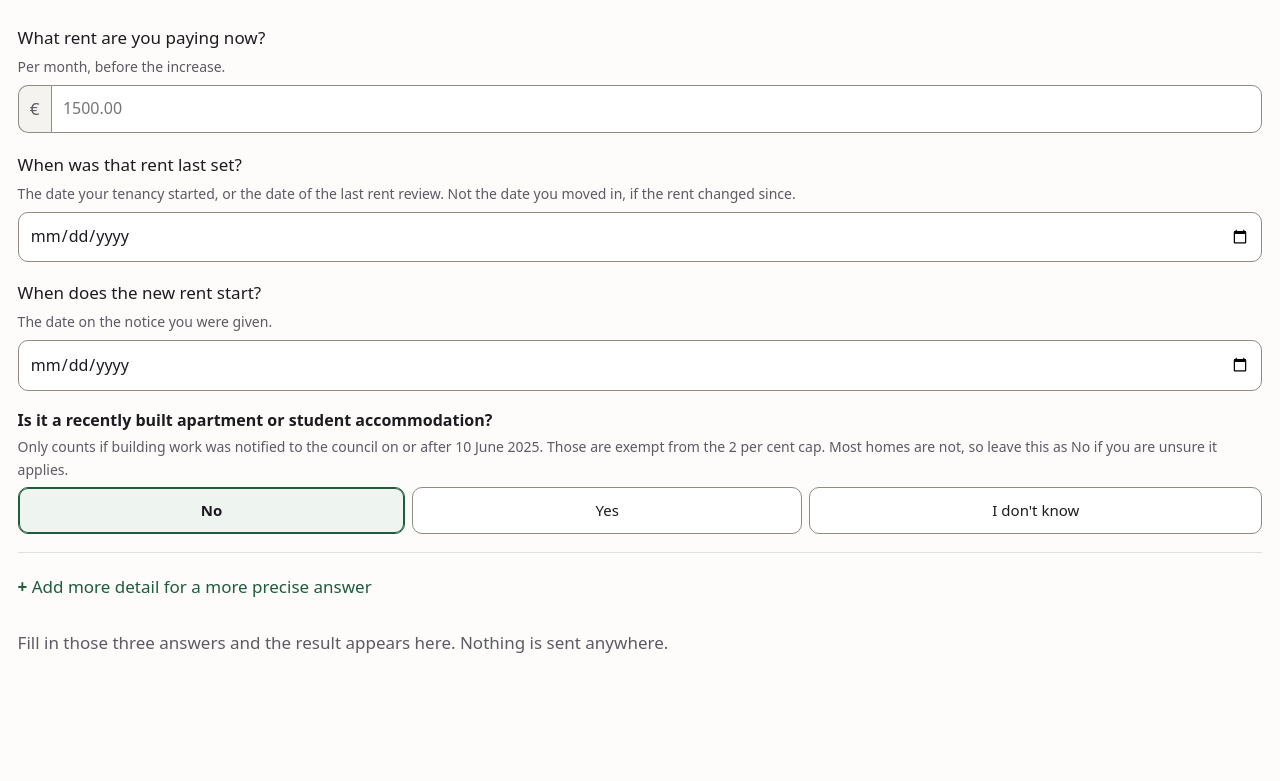
it: when the answer honestly depends on something the tenant cannot check › offers both figures rather than guessing
Type "2000" into the field labelled "What rent are you paying now?" at (657, 109), box [51,85,1262,133]
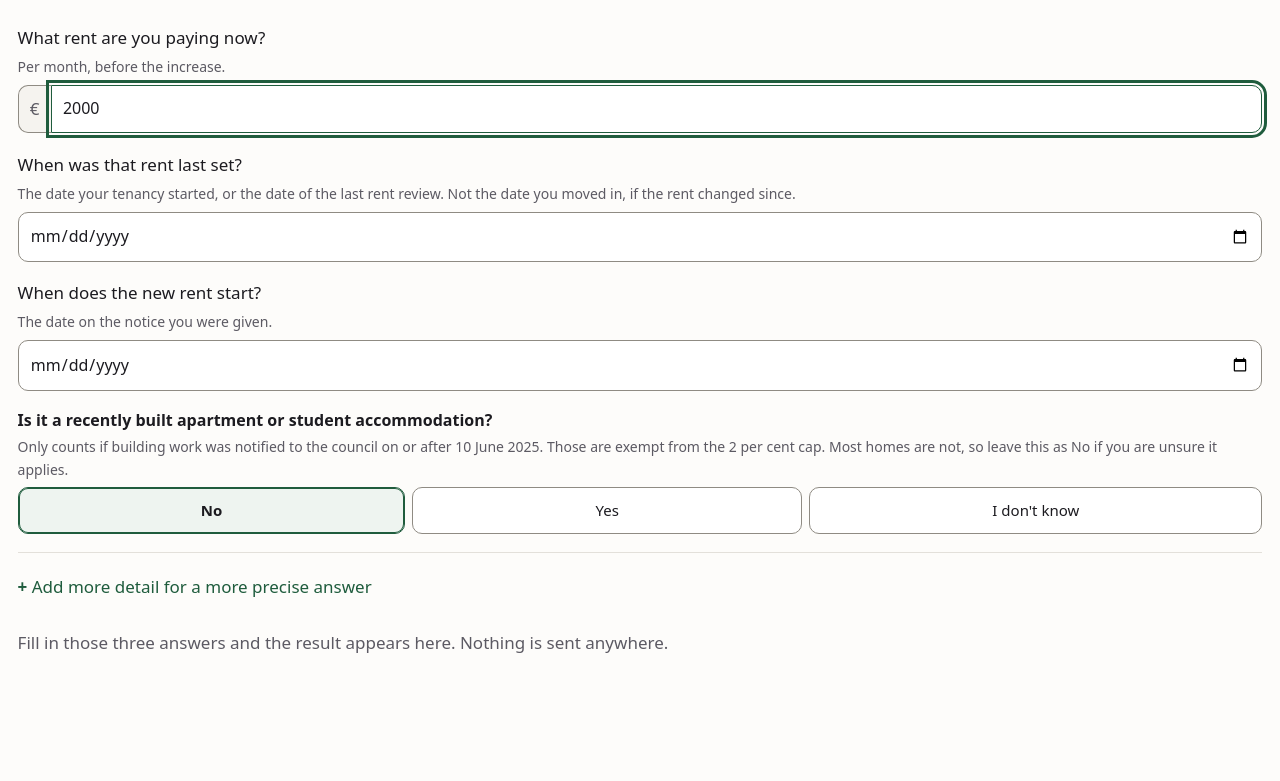
Type "2025-06-01" into the date field labelled "When was that rent last set?" at (640, 237), box [18,212,1262,262]
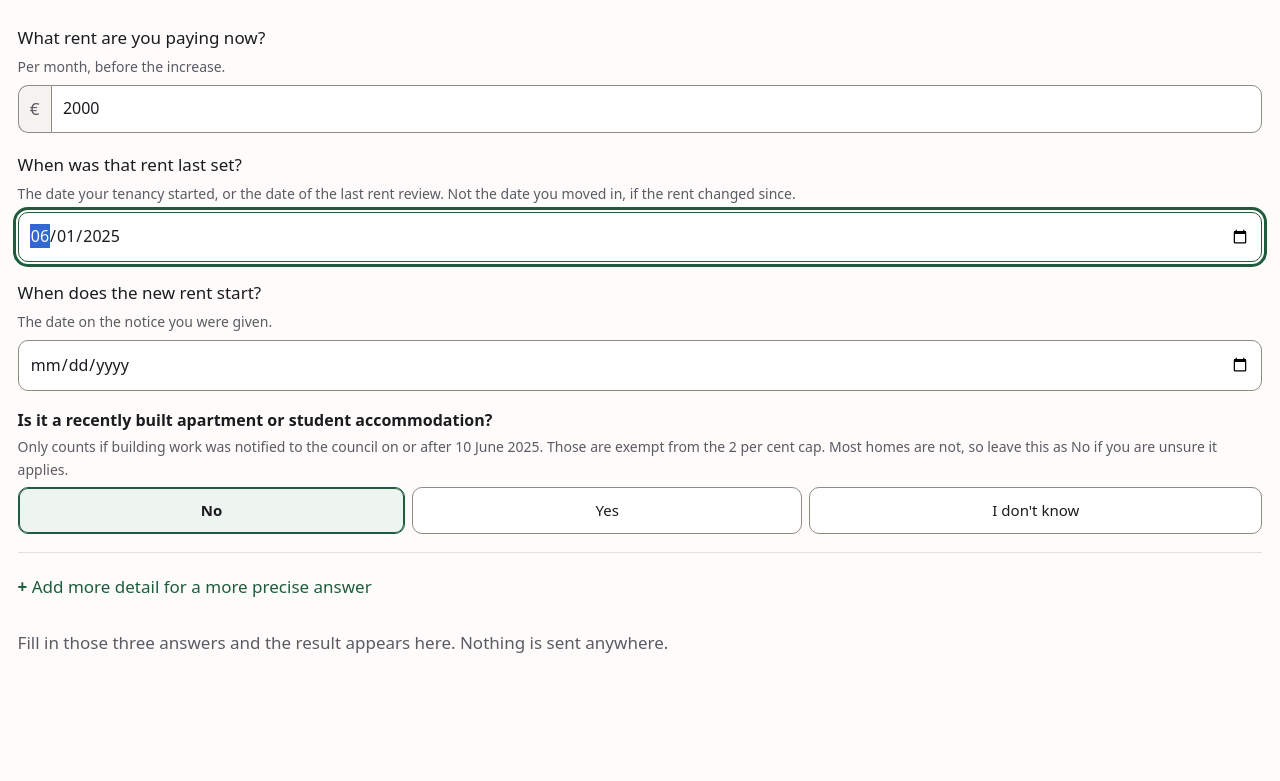
Type "2026-09-01" into the date field labelled "When does the new rent start?" at (640, 365), box [18,340,1262,391]
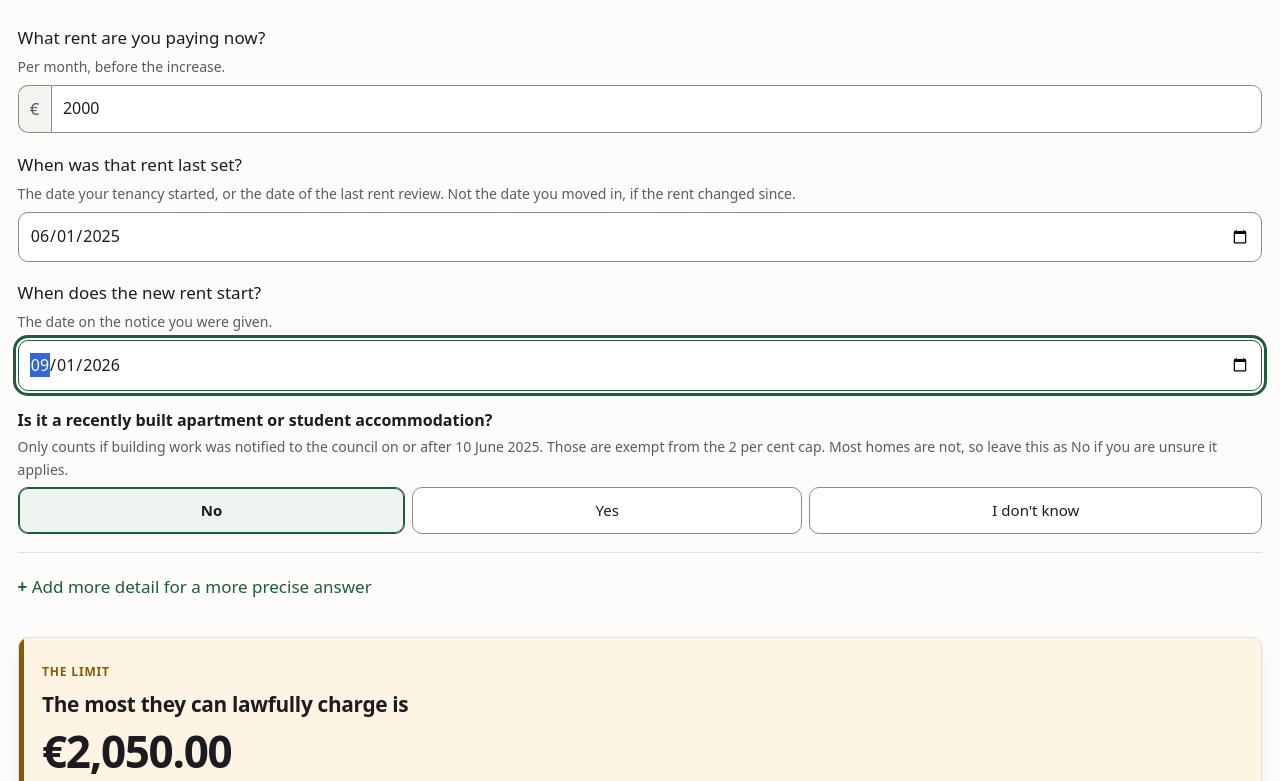
Click the radio button labelled "I don't know" at (1036, 511), box [809,487,1262,534]
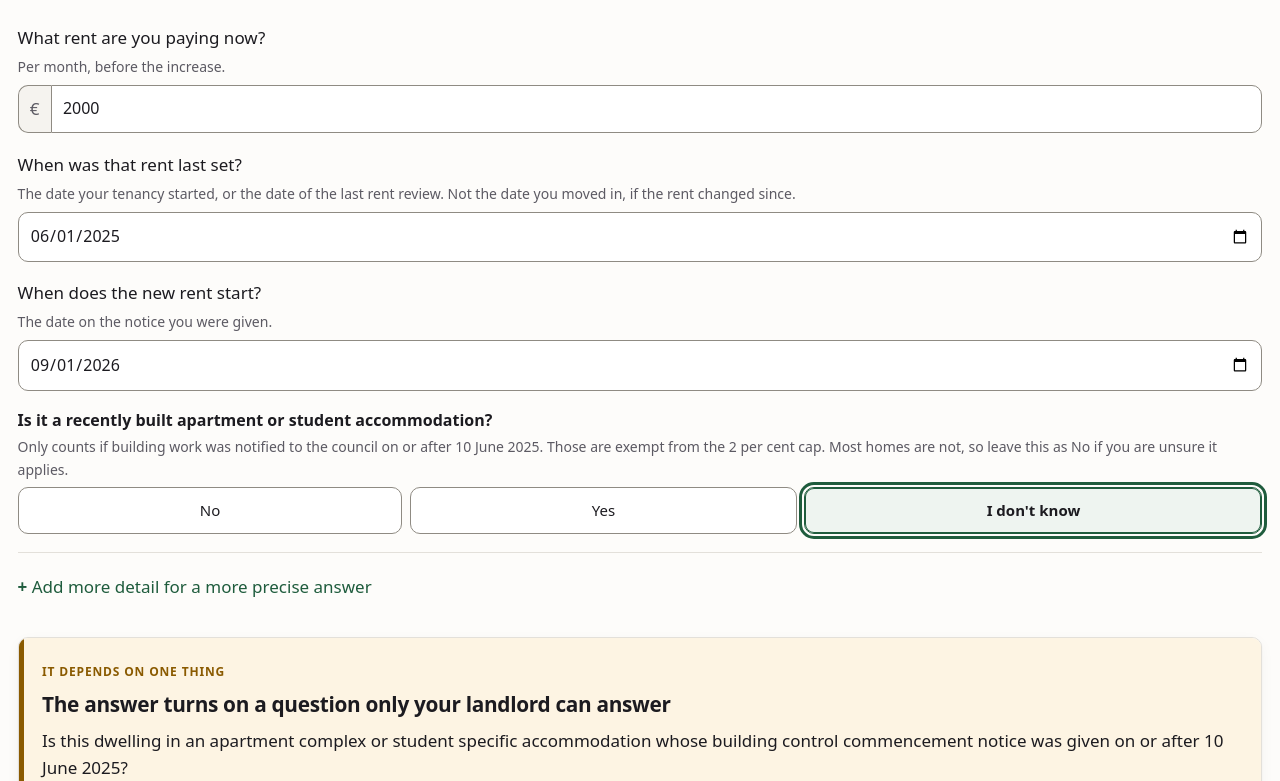
Now the heading "The answer turns on a question only your landlord can answer" is shown, box [42,690,671,718]
